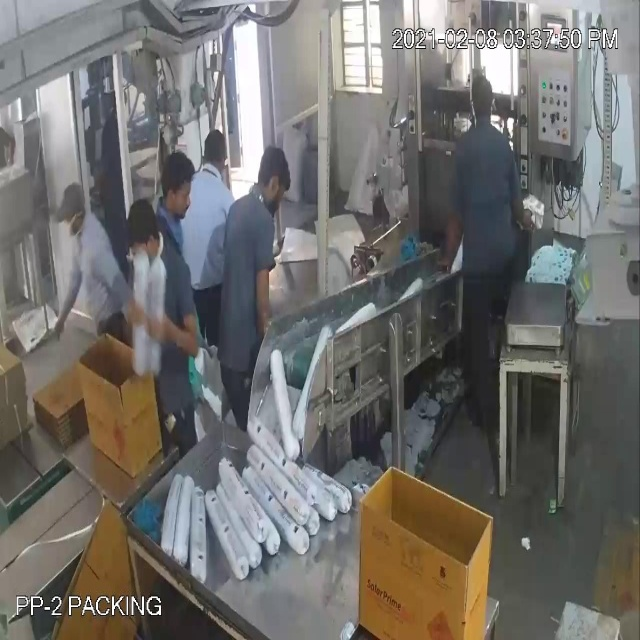Sin_guantes: (148, 292, 198, 353), (248, 254, 274, 341)
